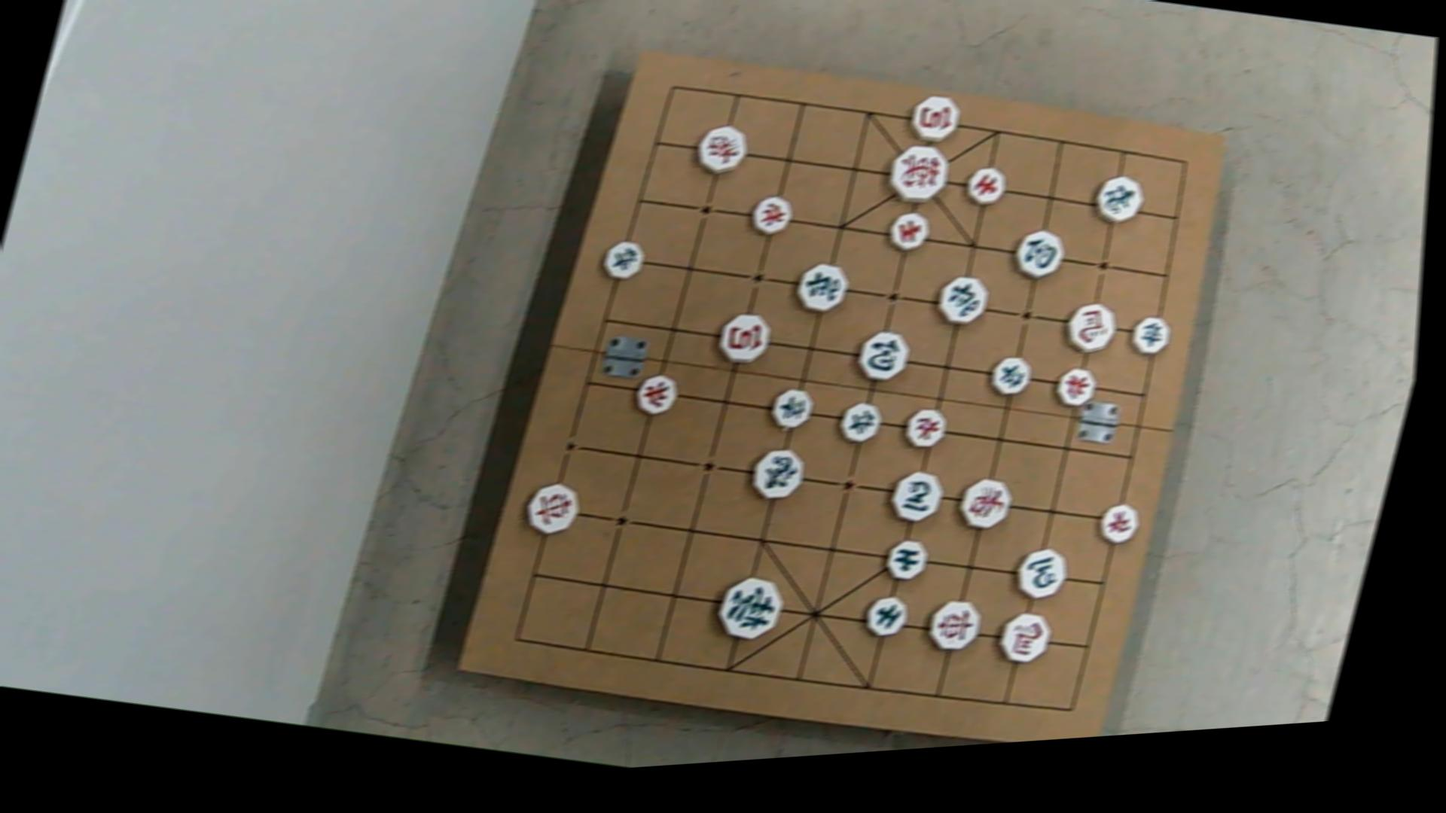cha_green: (789, 257, 850, 317), (932, 270, 992, 328)
cha_red: (922, 595, 984, 656), (523, 478, 585, 539)
jol_green: (834, 397, 883, 446), (764, 386, 813, 434), (1129, 312, 1176, 358), (600, 237, 648, 282), (985, 352, 1033, 397)
jol_red: (632, 369, 682, 417), (900, 403, 949, 450), (748, 192, 796, 239), (1094, 498, 1142, 545), (1054, 364, 1100, 409)
ma_green: (1010, 544, 1071, 604), (888, 467, 946, 524)
ma_red: (992, 606, 1054, 666), (1060, 298, 1120, 357)
po_green: (850, 327, 910, 385), (1008, 226, 1067, 283)
po_red: (715, 309, 776, 369), (905, 92, 962, 147)
sa_green: (860, 591, 909, 640), (881, 534, 931, 581)
sa_red: (961, 163, 1008, 209), (884, 208, 930, 253)
sang_green: (747, 441, 808, 501), (1091, 170, 1149, 227)
sang_red: (951, 473, 1013, 534), (691, 119, 753, 178)
wang_green: (713, 569, 789, 644)
wang_red: (881, 141, 951, 209)
